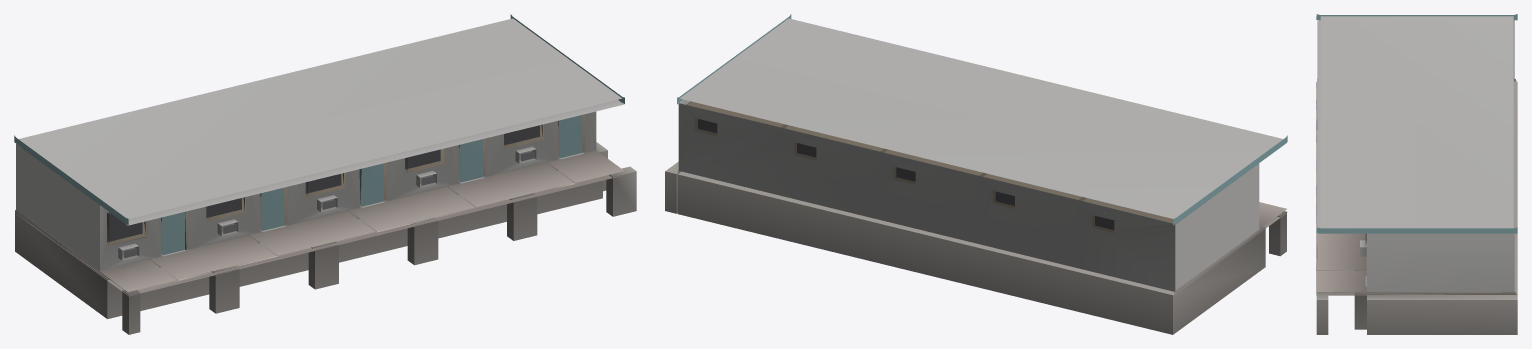
File: rooms.lod.glb
The picture shows the model from 3 angles, left to right: view 1: azimuth 30°, elevation 25°; view 2: azimuth 150°, elevation 25°; view 3: azimuth 270°, elevation 25°; orthographic projection. The views are drawn at different scales.
Visible parts, largest first — view 1: rooms; view 2: rooms; view 3: rooms.
Boxes of the visible parts, left/top/right/bottom form: rooms: left=14, top=14, right=636, bottom=334; rooms: left=665, top=14, right=1287, bottom=334; rooms: left=1316, top=14, right=1517, bottom=334.
Bounding box in the file's own units: 20.48 × 4.48 × 7.99.
